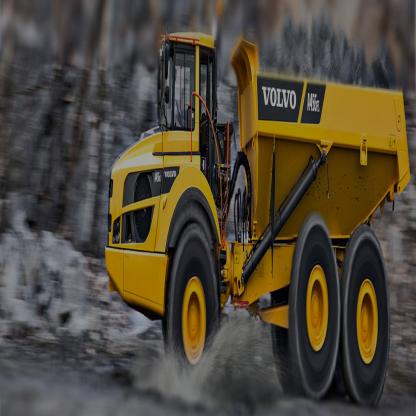dump_truck: (100, 19, 412, 402)
